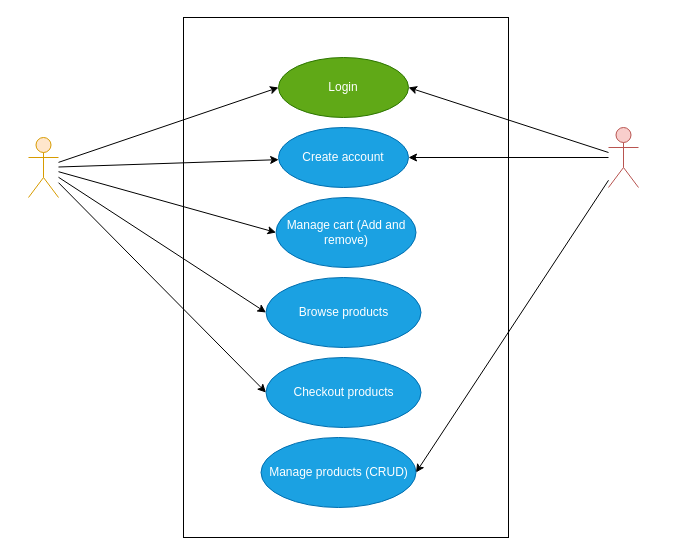
This 673x555 diagram has some shape labels left out. Here are the shapes that lost their labels. From the top down, the box of each, then its label:
(28, 136, 58, 198): Customer
(608, 126, 638, 188): Shopkeeper
